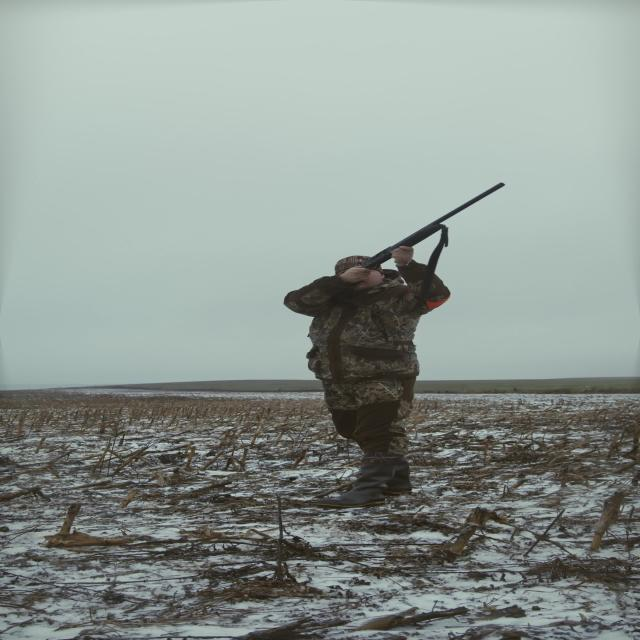Hunter: (286, 233, 462, 487)
Rifle: (361, 180, 516, 282)
